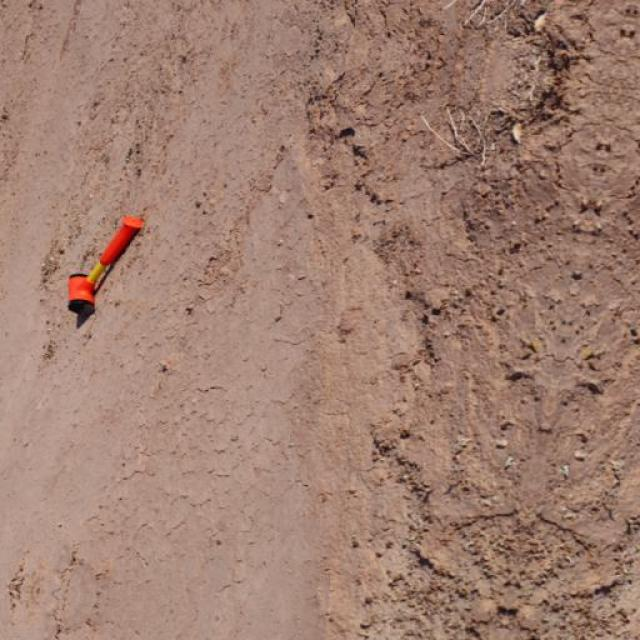mallet: (66, 214, 144, 326)
